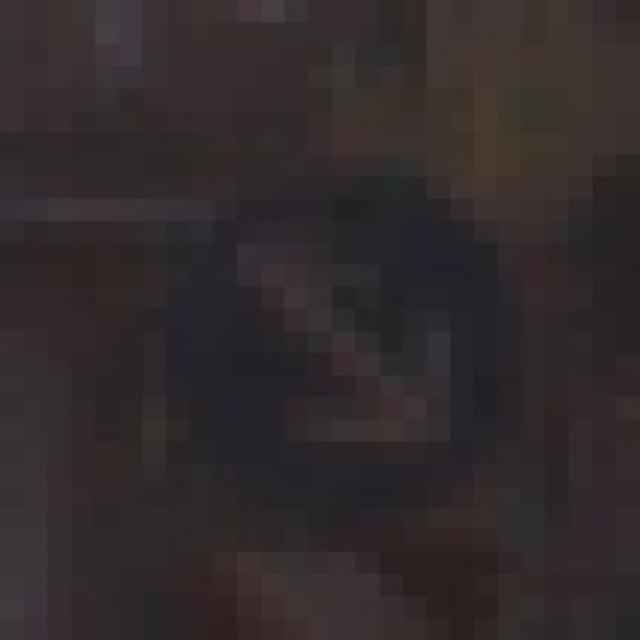Keep-Right: (118, 155, 570, 530)
